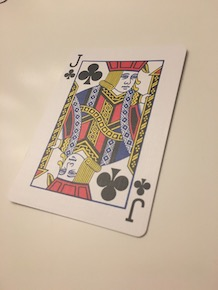JackOfClubs: (1, 42, 192, 239)
